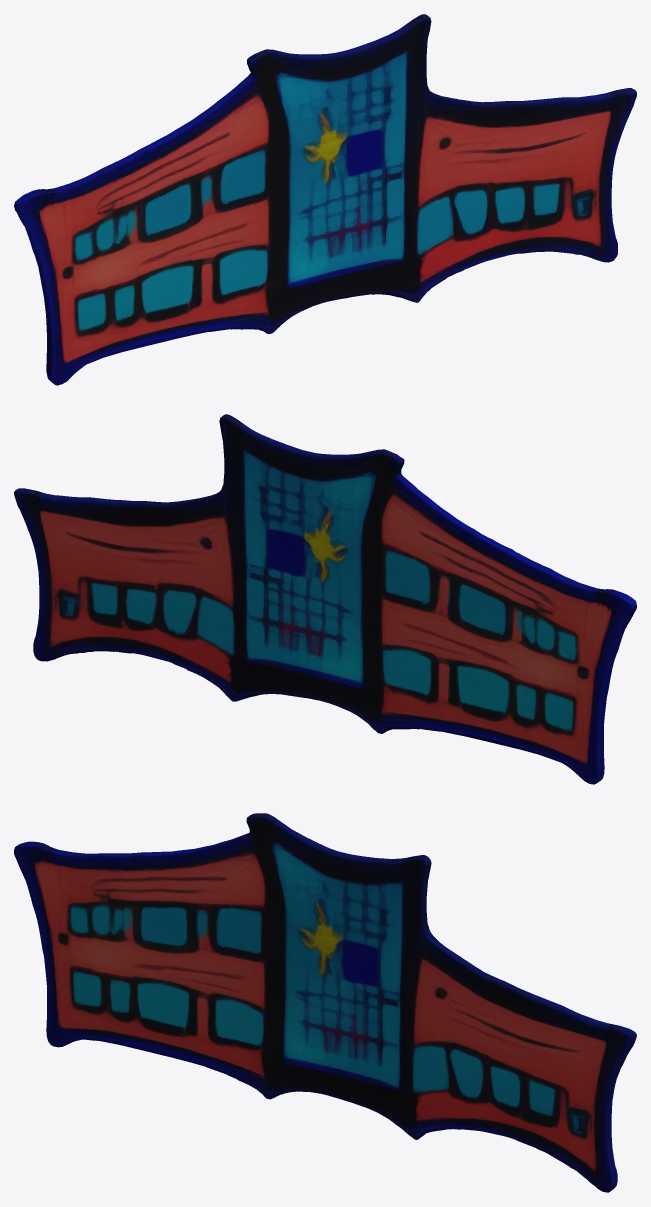
File: icon.glb
3 views of the same model, one above another, from view 1: azimuth 30°, elevation 25°; view 2: azimuth 150°, elevation 25°; view 3: azimuth 330°, elevation 25° (orthographic).
Parts seen in each view (by area): view 1: world; view 2: world; view 3: world.
Part boxes in pixels (x1,y1,x2,y2): world: (14,14,636,385); world: (14,414,636,784); world: (14,813,636,1192).
Bounding box in the file's own units: 0.9841 × 0.4458 × 0.016.
1 material, 1 textured.
